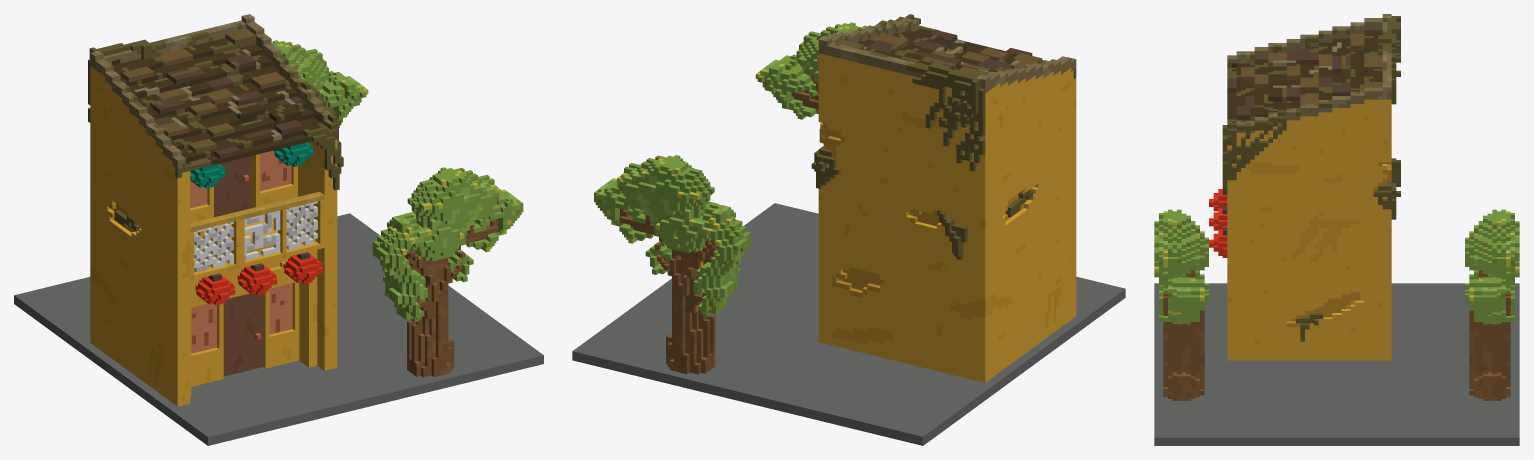
File: home1.glb
The picture shows the model from 3 angles, left to right: view 1: azimuth 30°, elevation 25°; view 2: azimuth 150°, elevation 25°; view 3: azimuth 270°, elevation 25°; orthographic projection. The views are drawn at different scales.
Visible parts, largest first — view 1: Object_2; view 2: Object_2; view 3: Object_2.
Part boxes in pixels (left/top/right/bottom): Object_2: left=14, top=14, right=543, bottom=445; Object_2: left=572, top=14, right=1125, bottom=445; Object_2: left=1154, top=14, right=1519, bottom=445.
Size of the model in its own units: 5.56 by 4.73 by 5.56.
1 material, 1 textured.
